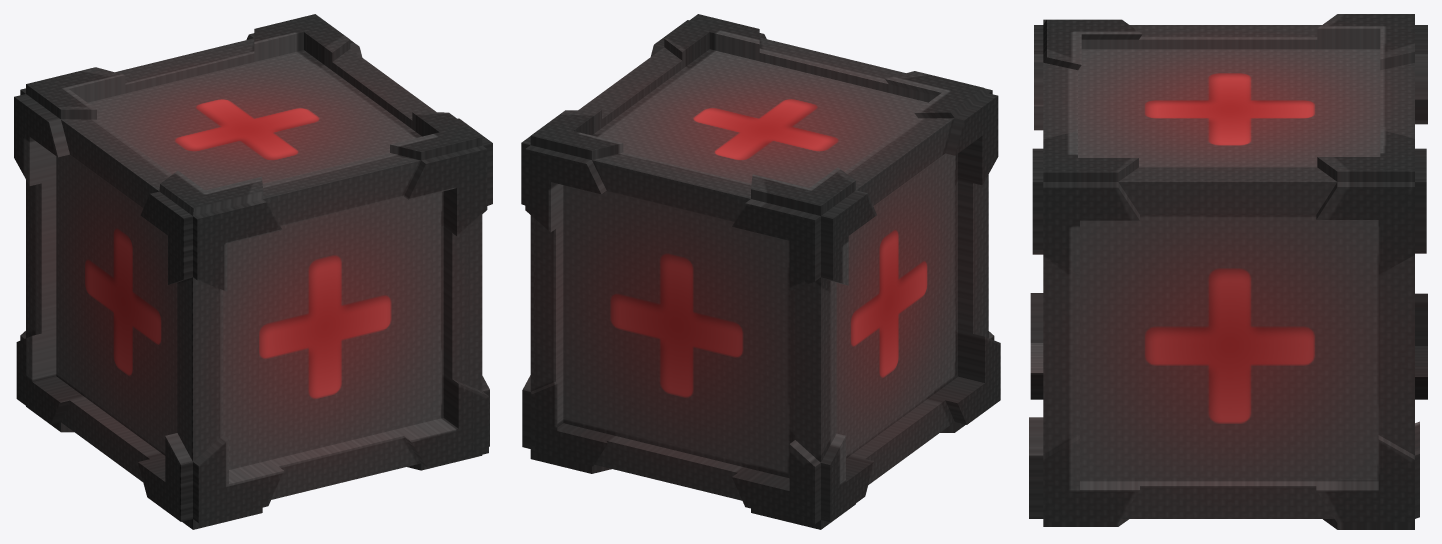
File: consumivel2.obj
3 views of the same model, side by side, from view 1: azimuth 30°, elevation 25°; view 2: azimuth 150°, elevation 25°; view 3: azimuth 270°, elevation 25° (orthographic). The views are drawn at different scales.
Parts seen in each view (by area): view 1: Cube.001; view 2: Cube.001; view 3: Cube.001.
Part boxes in pixels (x1,y1,x2,y2): Cube.001: (14,14,492,529); Cube.001: (521,14,1000,529); Cube.001: (1029,14,1427,529).
Size of the model in its own units: 4.65 by 4.6 by 4.62.
